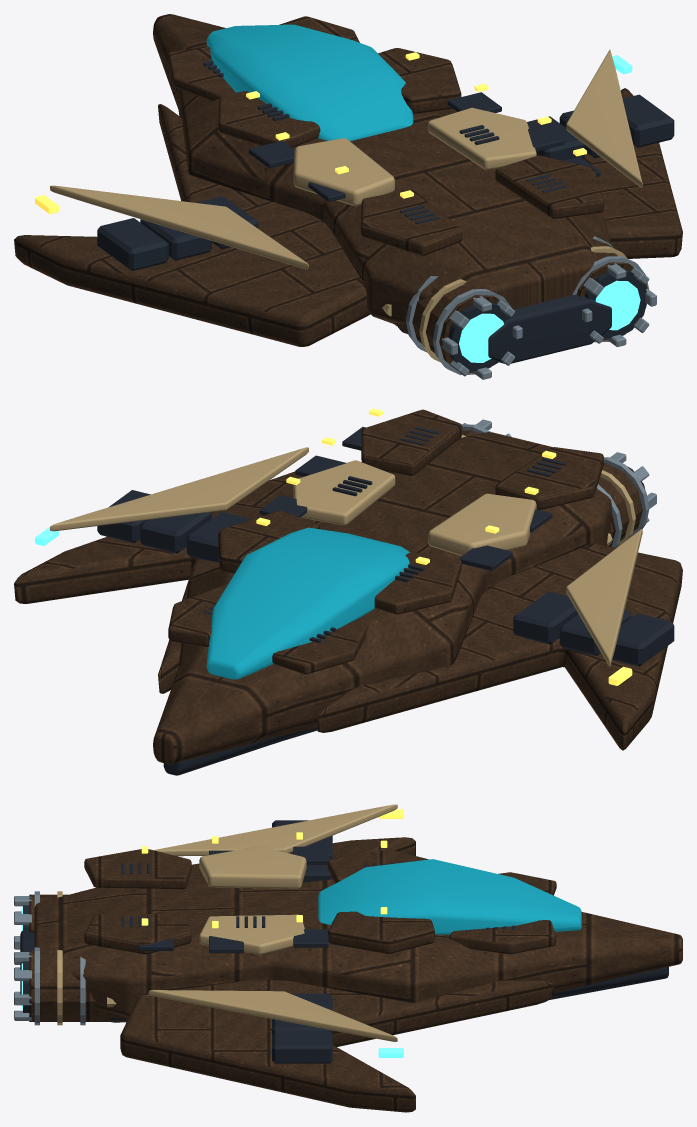
File: kestrel.glb
The picture shows the model from 3 angles, top to bottom: view 1: azimuth 30°, elevation 25°; view 2: azimuth 150°, elevation 25°; view 3: azimuth 270°, elevation 25°; orthographic projection. The views are drawn at different scales.
Parts seen in each view (by area): view 1: Gôndola do motor.023 · exportação, Colar da turbina.070 · exportação, Bocal do motor.023 · exportação, Cabine panorâmica.011 · exportação, Aleta do bocal.191 · exportação, Núcleo propulsor.023 · exportação, Luz de serviço.095 · exportação; view 2: Gôndola do motor.023 · exportação, Colar da turbina.070 · exportação, Cabine panorâmica.011 · exportação, Bocal do motor.023 · exportação, Aleta do bocal.191 · exportação, Luz de serviço.095 · exportação; view 3: Gôndola do motor.023 · exportação, Colar da turbina.070 · exportação, Cabine panorâmica.011 · exportação, Bocal do motor.023 · exportação, Aleta do bocal.191 · exportação, Luz de serviço.095 · exportação.
Part boxes in pixels (left/top/right/bottom): Gôndola do motor.023 · exportação: left=14, top=14, right=682, bottom=373; Colar da turbina.070 · exportação: left=50, top=50, right=642, bottom=362; Bocal do motor.023 · exportação: left=97, top=60, right=674, bottom=370; Cabine panorâmica.011 · exportação: left=206, top=24, right=413, bottom=140; Aleta do bocal.191 · exportação: left=406, top=236, right=656, bottom=379; Núcleo propulsor.023 · exportação: left=459, top=55, right=640, bottom=362; Luz de serviço.095 · exportação: left=35, top=52, right=586, bottom=213; Gôndola do motor.023 · exportação: left=14, top=409, right=682, bottom=764; Colar da turbina.070 · exportação: left=50, top=434, right=642, bottom=666; Cabine panorâmica.011 · exportação: left=206, top=527, right=409, bottom=679; Bocal do motor.023 · exportação: left=97, top=427, right=674, bottom=775; Aleta do bocal.191 · exportação: left=461, top=419, right=656, bottom=547; Luz de serviço.095 · exportação: left=256, top=408, right=632, bottom=685; Gôndola do motor.023 · exportação: left=29, top=837, right=682, bottom=1112; Colar da turbina.070 · exportação: left=57, top=804, right=397, bottom=1041; Cabine panorâmica.011 · exportação: left=318, top=859, right=581, bottom=934; Bocal do motor.023 · exportação: left=20, top=820, right=668, bottom=1063; Aleta do bocal.191 · exportação: left=14, top=891, right=85, bottom=1025; Luz de serviço.095 · exportação: left=141, top=809, right=403, bottom=928.
Bounding box in the file's own units: 42.87 × 9.71 × 47.54.
Materials: 7 (1 with a texture image).
